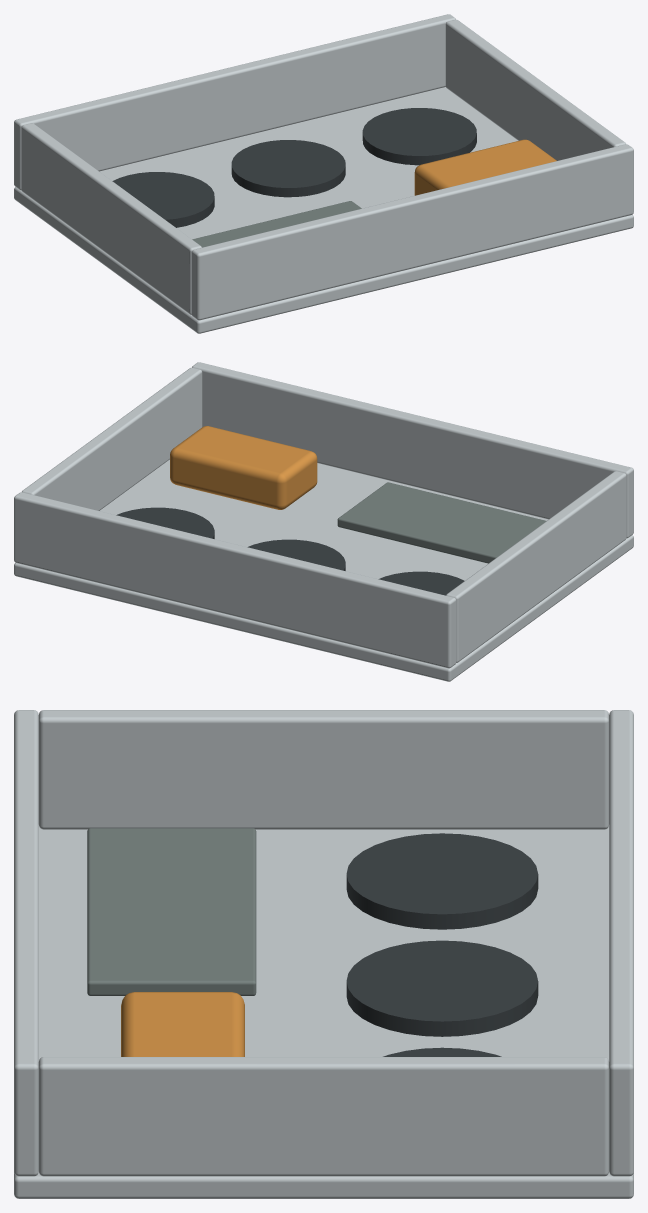
The model's file is bicycle-shop-and-repair-cafe-patch-repair-tray-27a93d2e__32394.glb.
3 renders of one model, top to bottom at view 1: azimuth 30°, elevation 25°; view 2: azimuth 150°, elevation 25°; view 3: azimuth 270°, elevation 25°, orthographic. The views are drawn at different scales.
Parts seen in each view (by area): view 1: patch-repair-tray; view 2: patch-repair-tray; view 3: patch-repair-tray.
Boxes of the visible parts, x1,y1,x2,y2 form: patch-repair-tray: [14, 14, 633, 333]; patch-repair-tray: [14, 362, 633, 681]; patch-repair-tray: [14, 710, 633, 1198].
Size of the model in its own units: 0.15 by 0.0264 by 0.11.
